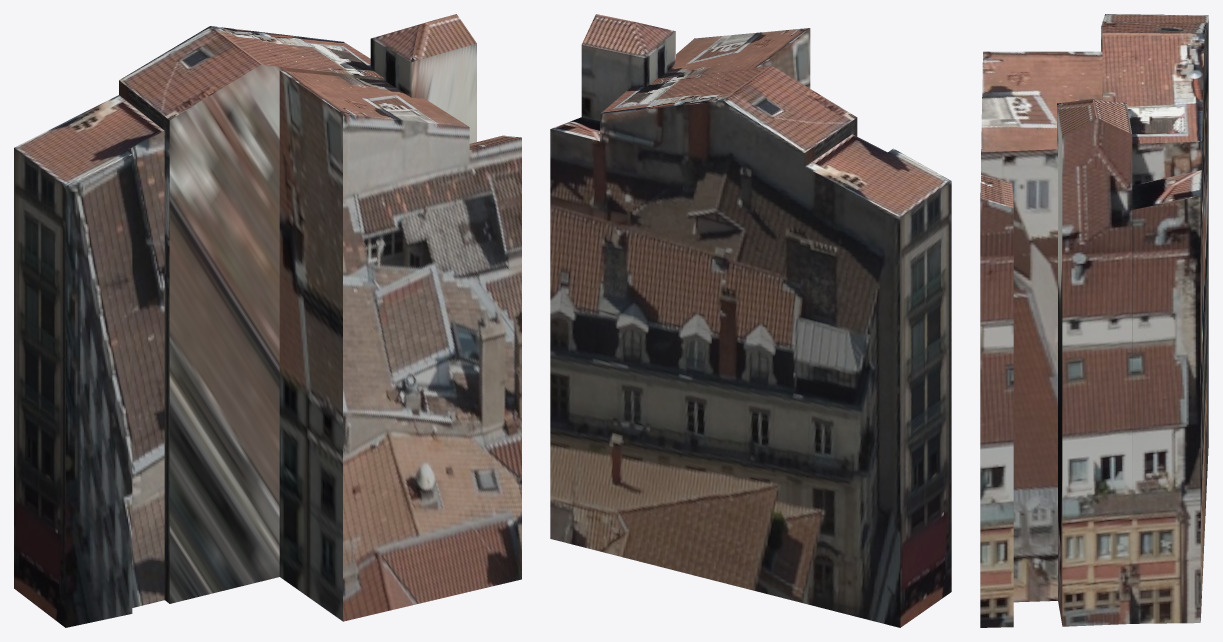
3 renders of one model, left to right at view 1: azimuth 30°, elevation 25°; view 2: azimuth 150°, elevation 25°; view 3: azimuth 270°, elevation 25°, orthographic. The views are drawn at different scales.
Parts seen in each view (by area): view 1: Z_UP; view 2: Z_UP; view 3: Z_UP.
Boxes of the visible parts, x1,y1,x2,y2 form: Z_UP: [14, 14, 521, 627]; Z_UP: [550, 14, 951, 627]; Z_UP: [980, 14, 1208, 627].
Bounding box in the file's own units: 21.55 × 27.47 × 11.21.
Materials: 2 (1 with a texture image).
